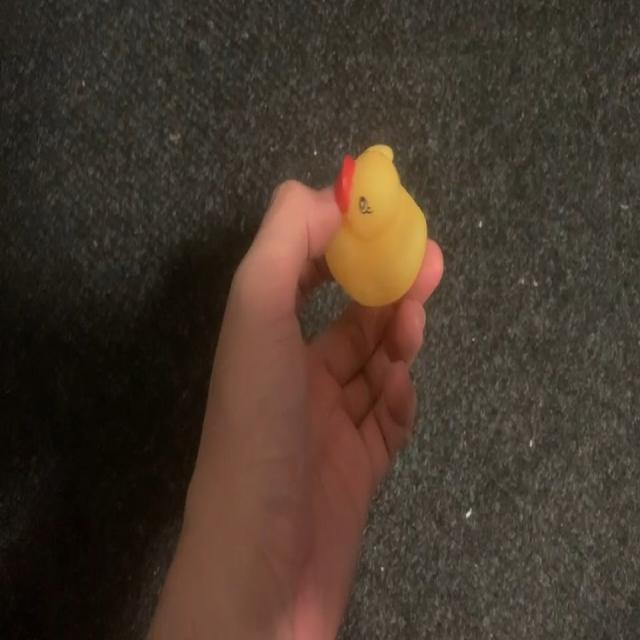rubber-duck: (325, 144, 425, 304)
